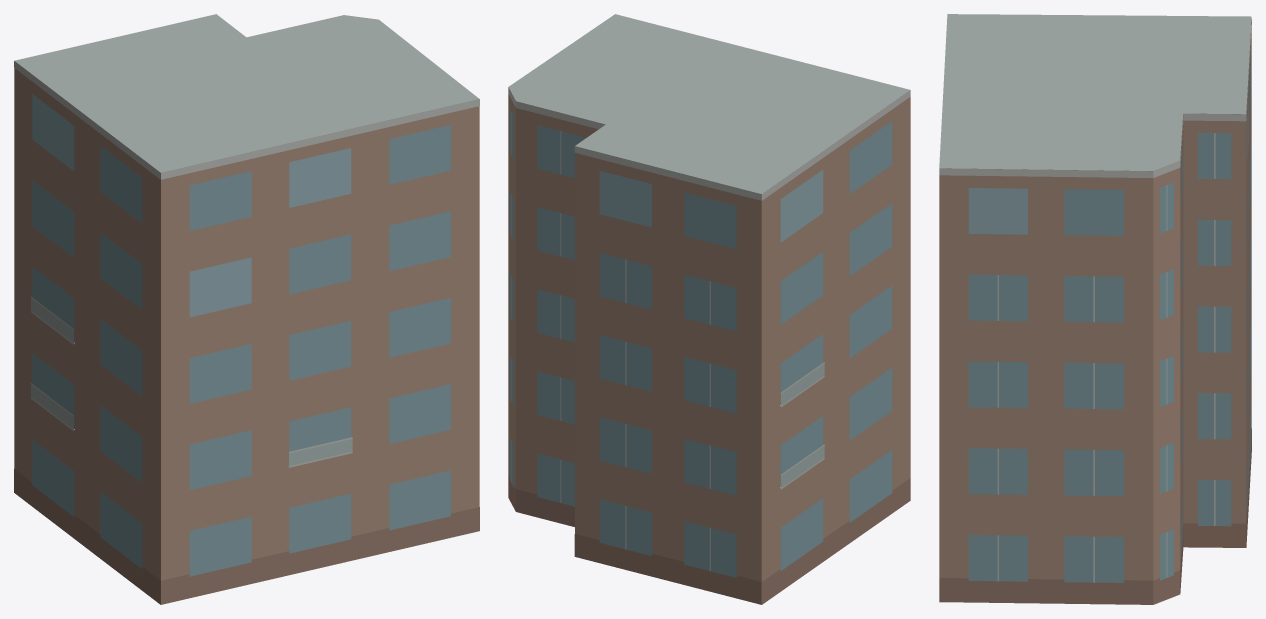
File: survey-upis-32699766.glb
3 views of the same model, side by side, from view 1: azimuth 30°, elevation 25°; view 2: azimuth 150°, elevation 25°; view 3: azimuth 270°, elevation 25° (orthographic). The views are drawn at different scales.
Visible parts, largest first — view 1: survey-upis-32699766.tmp; view 2: survey-upis-32699766.tmp; view 3: survey-upis-32699766.tmp.
Part boxes in pixels (x1,y1,x2,y2): survey-upis-32699766.tmp: (14,14,479,604); survey-upis-32699766.tmp: (508,14,910,604); survey-upis-32699766.tmp: (939,14,1251,604).
Bounding box in the file's own units: 11.66 × 15 × 9.81.
